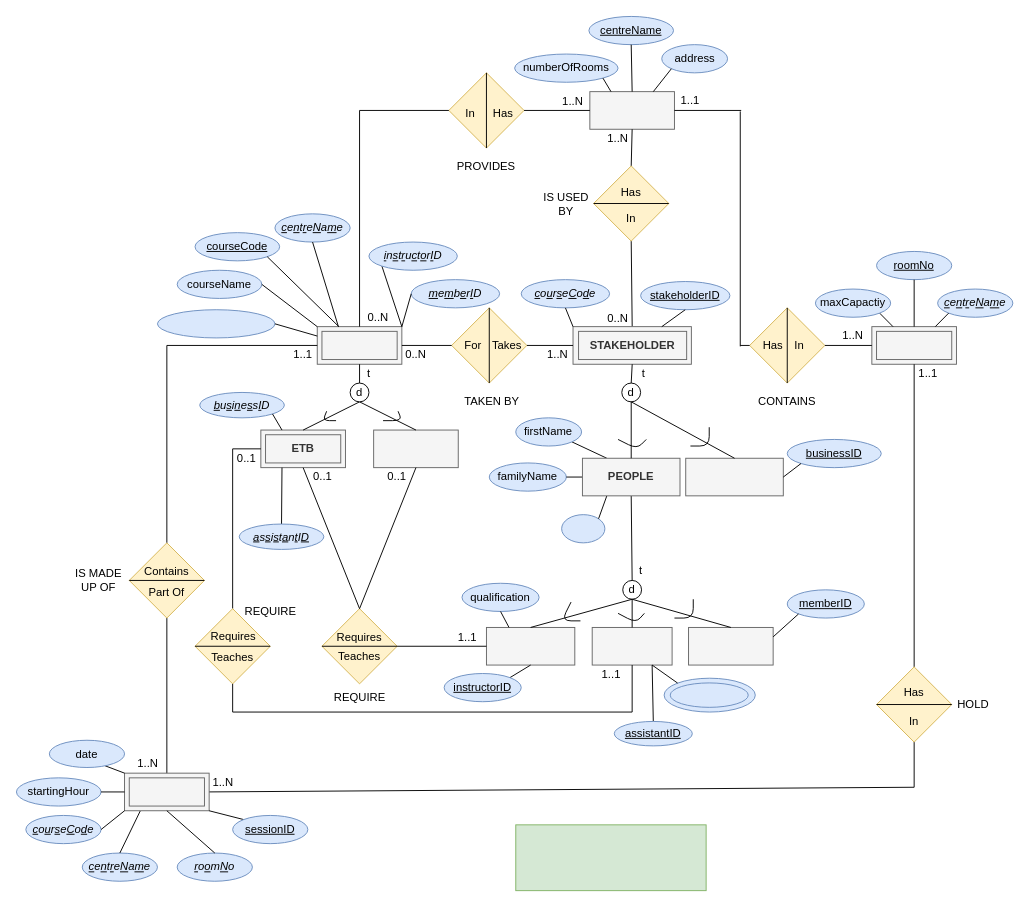
This 1029x907 diagram has some shape labels left out. The shapes that lost their labels are listed below. From the top down, each one's box as (x1, y1, x2, y2) in pixels, then its label:
(589, 91, 674, 129): CENTRE
(157, 309, 275, 338): numberOfSessions
(321, 330, 397, 360): COURSE
(876, 330, 952, 360): ROOM
(373, 429, 458, 468): OTA
(685, 457, 783, 496): BUSINESS
(561, 514, 605, 543): DOB
(486, 627, 575, 665): INSTRUCTOR
(591, 627, 672, 665): ASSISTANT
(688, 627, 773, 665): MEMBER
(669, 682, 748, 707): trainingCert
(128, 777, 204, 806): SESSION
(515, 824, 706, 891): ABBREVIATIONS DOB = DATE OF BIRTH ETB = EXCLUSIVE TO BUSINESS OTA = OPEN TO ALL
